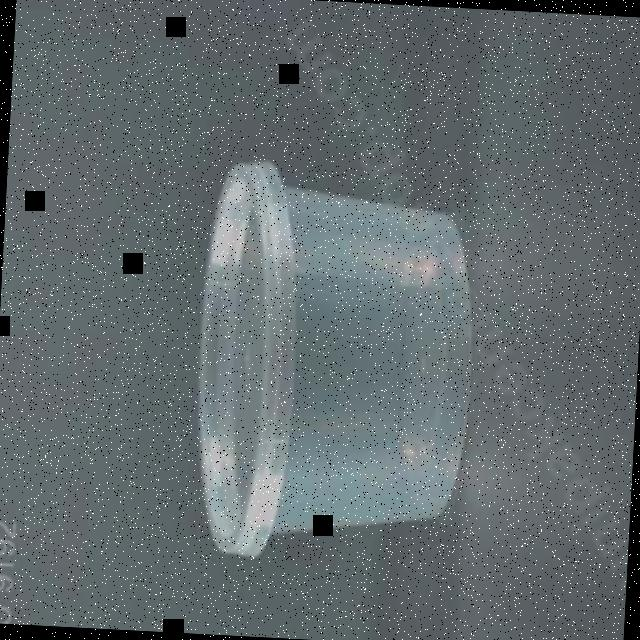plastic_box: (192, 157, 480, 566)
